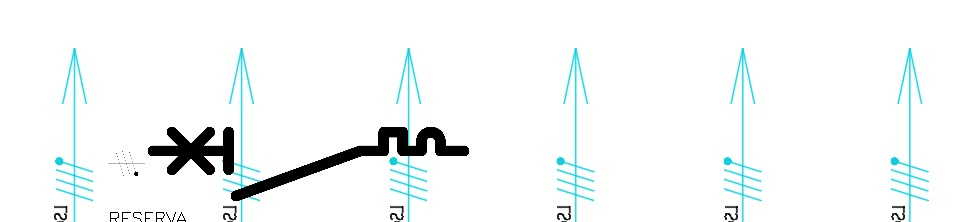interruptor_termomagnetico: (144, 124, 471, 204)
